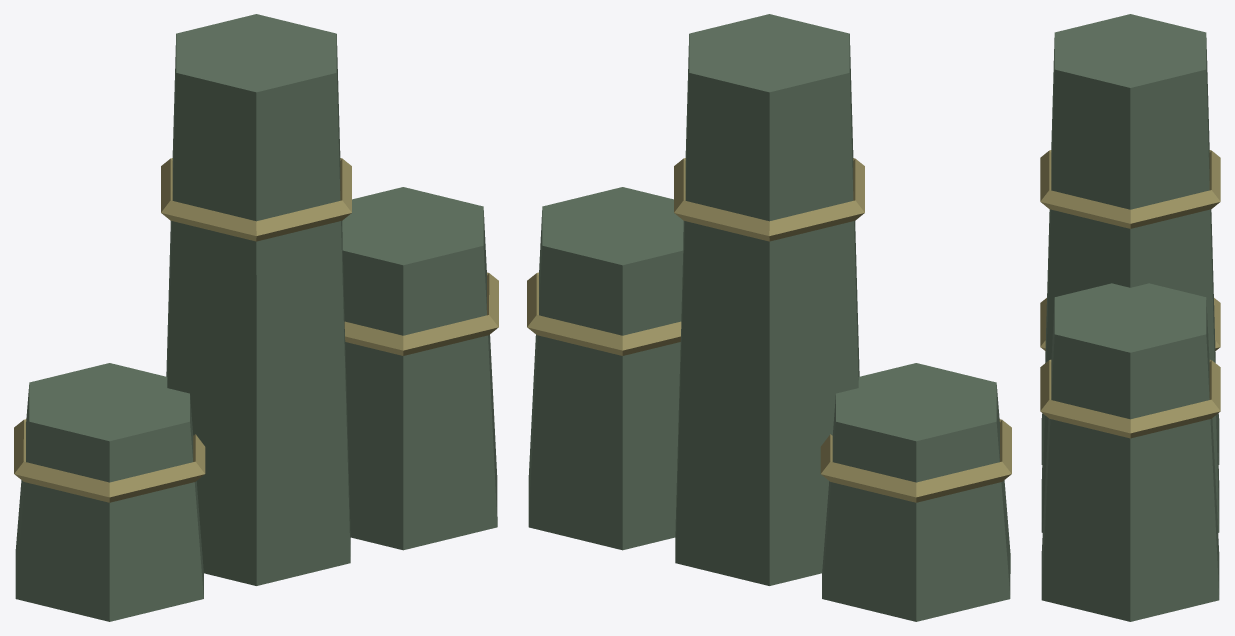
The model's file is map-boundaries-v5__ruins_06.glb.
The picture shows the model from 3 angles, left to right: view 1: azimuth 30°, elevation 25°; view 2: azimuth 150°, elevation 25°; view 3: azimuth 270°, elevation 25°; orthographic projection. The views are drawn at different scales.
Parts seen in each view (by area): view 1: ruins_06; view 2: ruins_06; view 3: ruins_06.
Boxes of the visible parts, left/top/right/bottom form: ruins_06: left=14, top=14, right=498, bottom=621; ruins_06: left=527, top=14, right=1011, bottom=621; ruins_06: left=1040, top=14, right=1220, bottom=621.
Size of the model in its own units: 1.75 by 1.68 by 0.5975.
